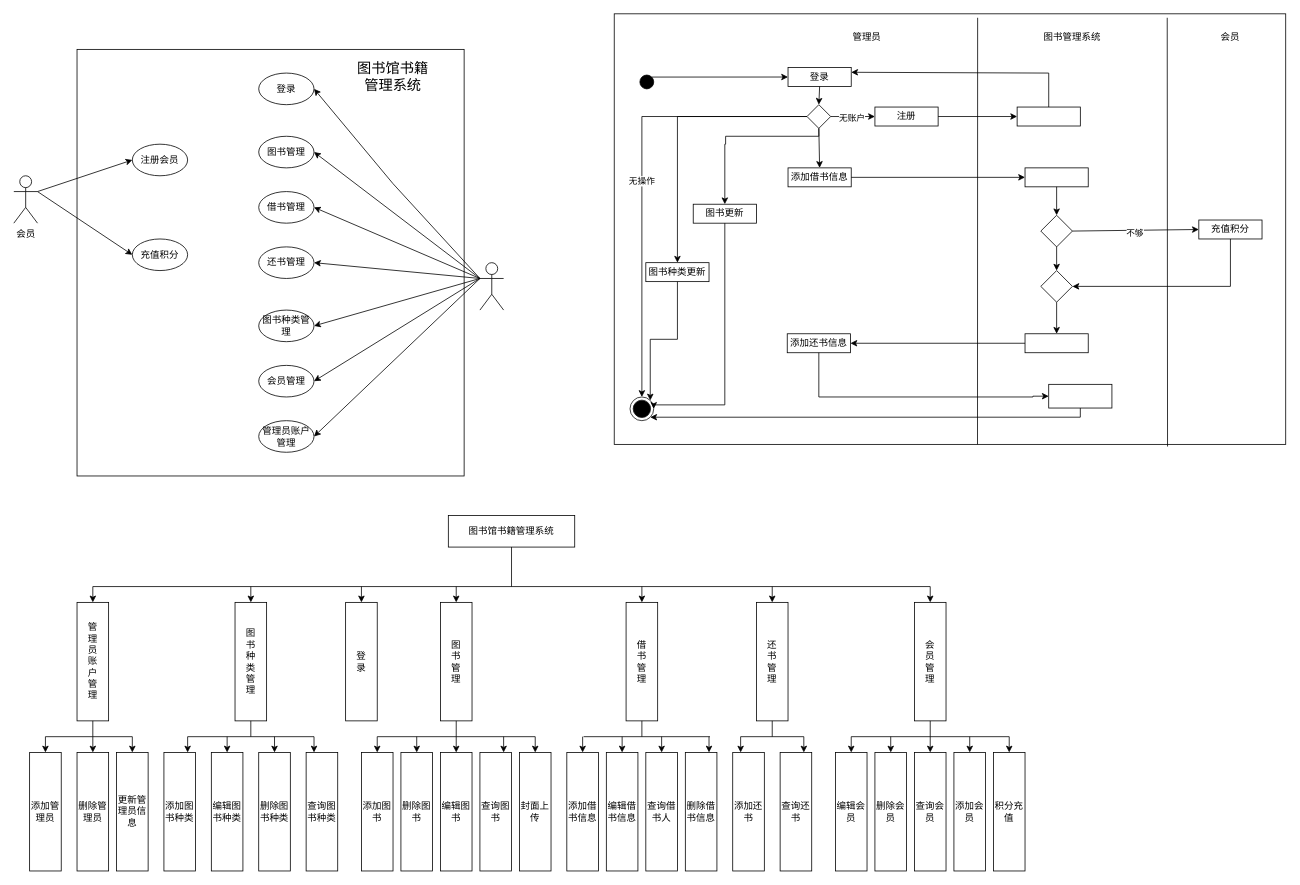
This 1300x885 diagram has some shape labels left out. The centre of each missing label's shape, as x and y in pixels:
保存账户信息: (x=1048, y=116)
图书管理员: (x=491, y=286)
更新借书信息: (x=1056, y=343)
更新还书信息: (x=1080, y=396)
验证积分: (x=1056, y=177)
